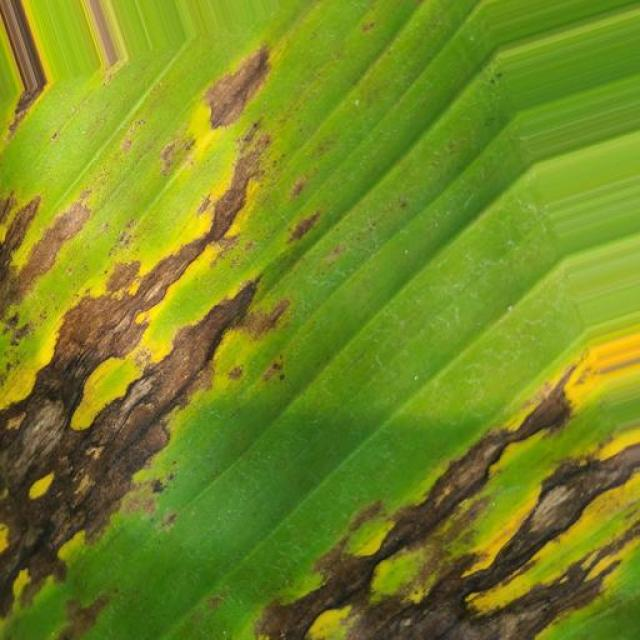Early_rust: (0, 49, 635, 640)
